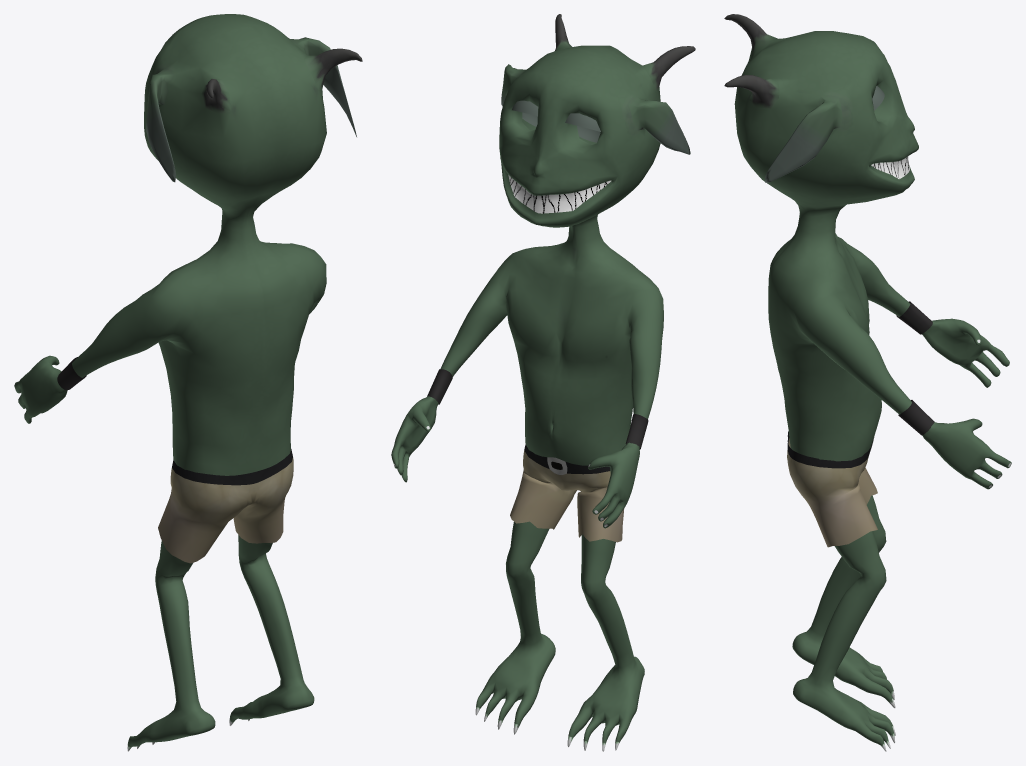
The model's file is lwjglcharactergoblin15.obj.
The picture shows the model from 3 angles, left to right: view 1: azimuth 30°, elevation 25°; view 2: azimuth 150°, elevation 25°; view 3: azimuth 270°, elevation 25°; orthographic projection. The views are drawn at different scales.
Parts seen in each view (by area): view 1: Cube.002; view 2: Cube.002; view 3: Cube.002.
Part boxes in pixels (x1,y1,x2,y2): Cube.002: (14, 14, 362, 751); Cube.002: (391, 14, 695, 751); Cube.002: (724, 14, 1011, 751).
Bounding box in the file's own units: 1.38 × 3.9 × 1.49.
